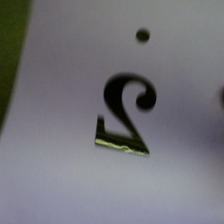violet2: (90, 24, 165, 164)
